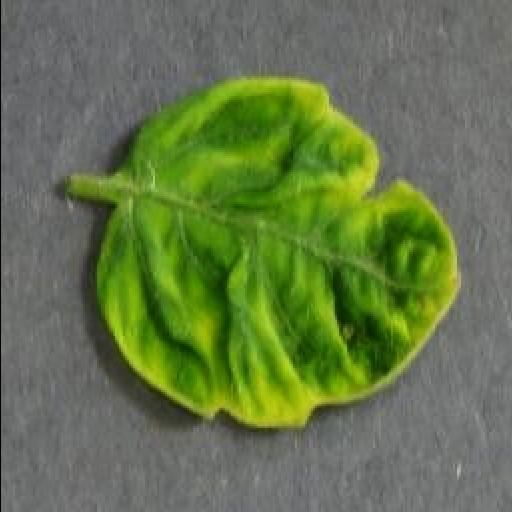disease_tomato: (96, 78, 464, 432)
